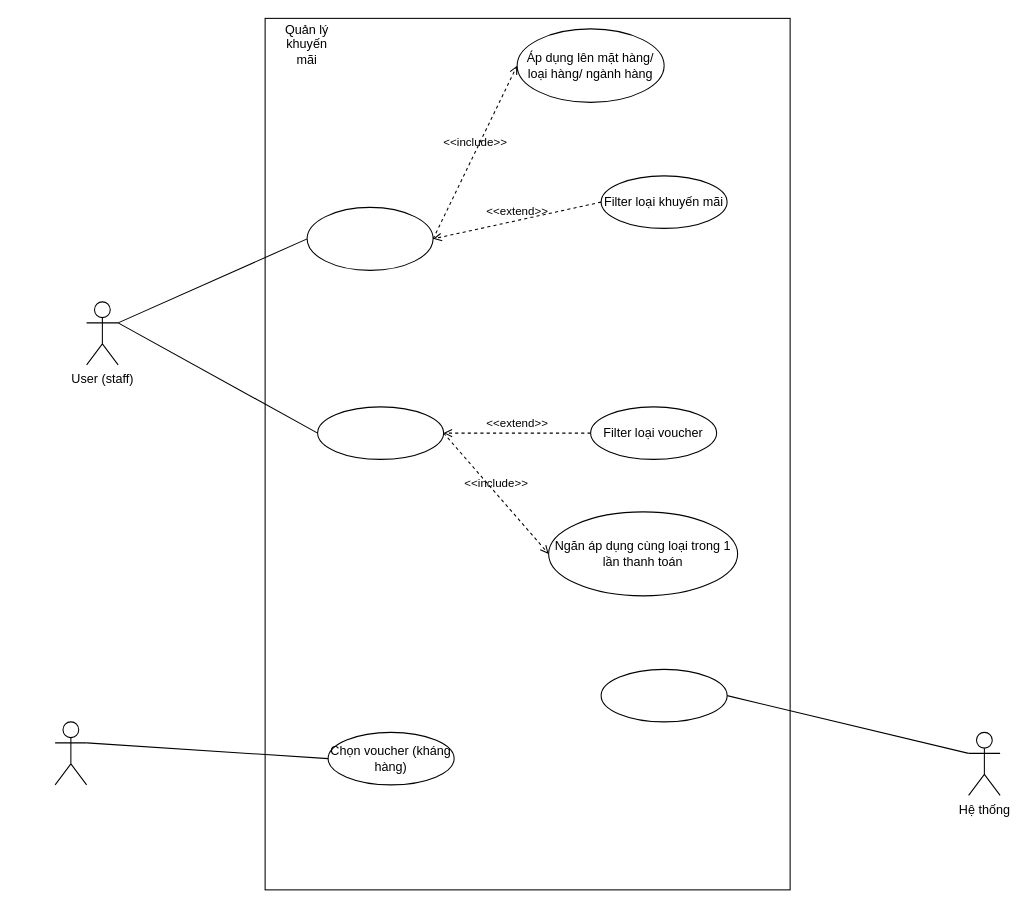
Image size: 1028x908. Some labels were removed from this diagram. The shapes that lost their labels are listed below. From the top down, each one's centre as x and y in pixels, then its label:
(369,238): CRUD khuyến mãi
(380,432): CRUD voucher
(663,695): Tự động áp khuyến mãi khi thanh toán
(70,753): User (Khách hàng)
